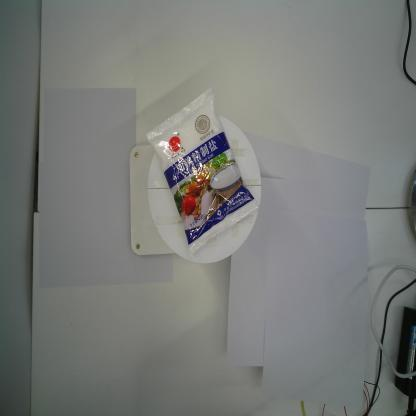Seasoner: (146, 86, 258, 257)
